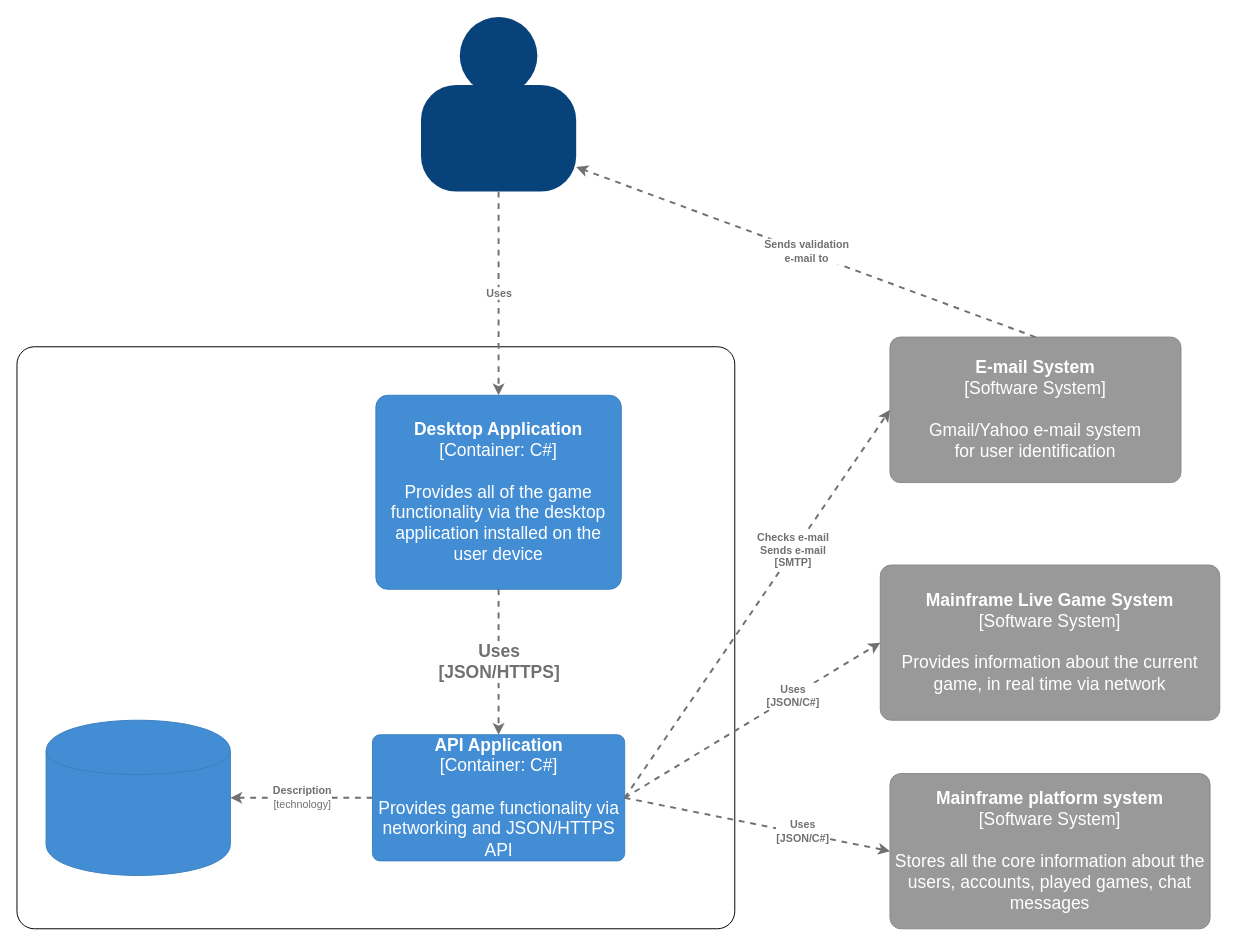
Image size: 1237x946. Some labels were removed from this diagram. Here are the shapes that lost their labels. From the top down, the box of each, then its label:
(420, 84, 576, 192): Player [Person] User who wants to play the game
(16, 346, 735, 929): Game Platform System [Software System]
(45, 719, 230, 875): Database [Container: DBMS] Stores user information and credentials
